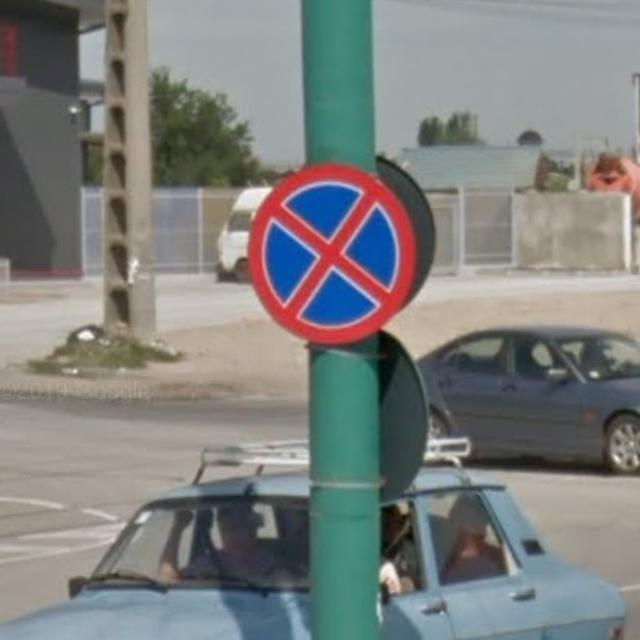forb_waiting: (246, 166, 417, 346)
